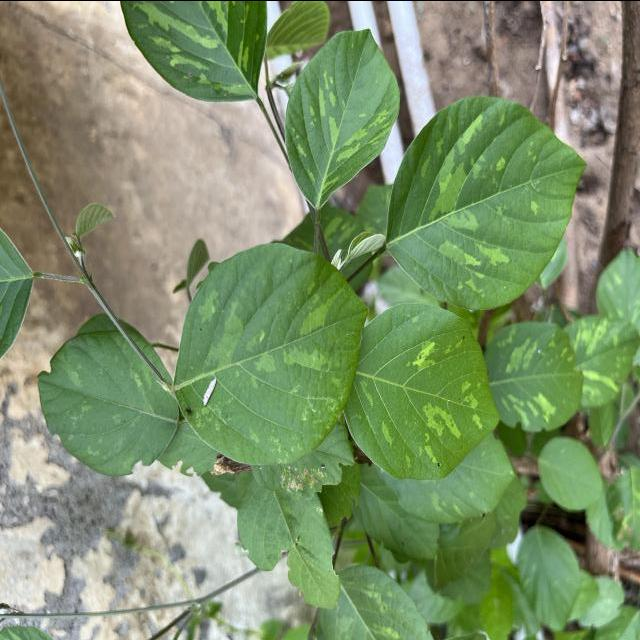Desmodium gangeticum: (380, 92, 590, 312), (171, 237, 371, 467), (340, 300, 502, 484), (281, 23, 403, 208)
